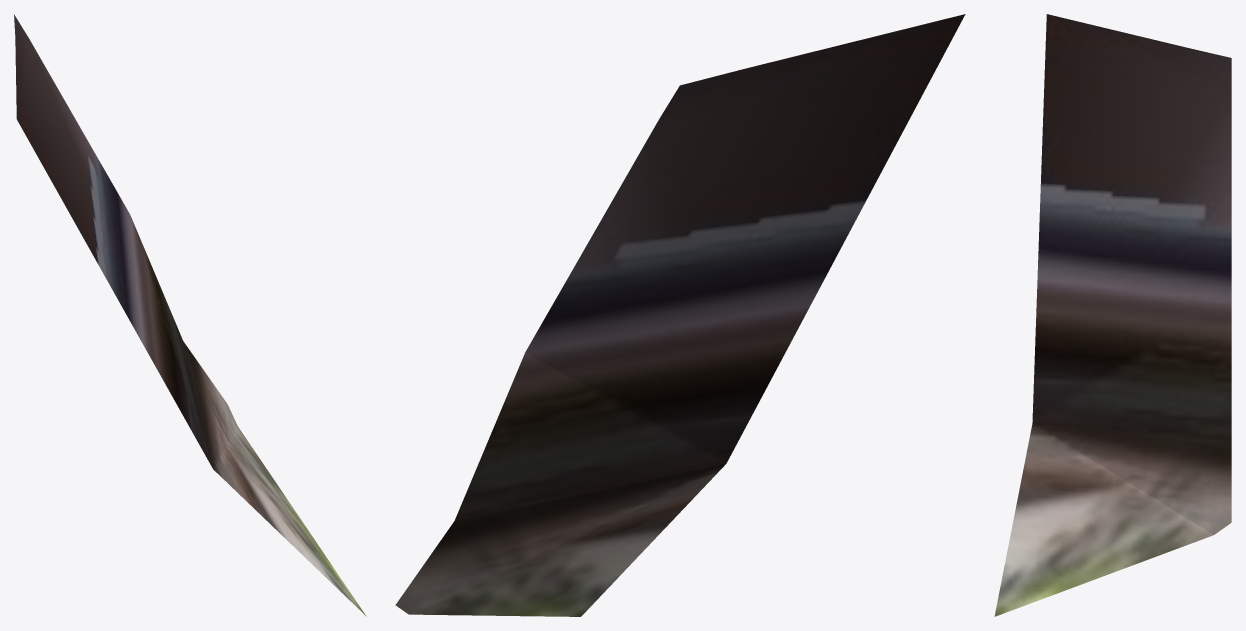
The picture shows the model from 3 angles, left to right: view 1: azimuth 30°, elevation 25°; view 2: azimuth 150°, elevation 25°; view 3: azimuth 270°, elevation 25°; orthographic projection. The views are drawn at different scales.
Size of the model in its own units: 0.4575 by 0.7569 by 0.3457.
Materials: 1 (1 with a texture image).
